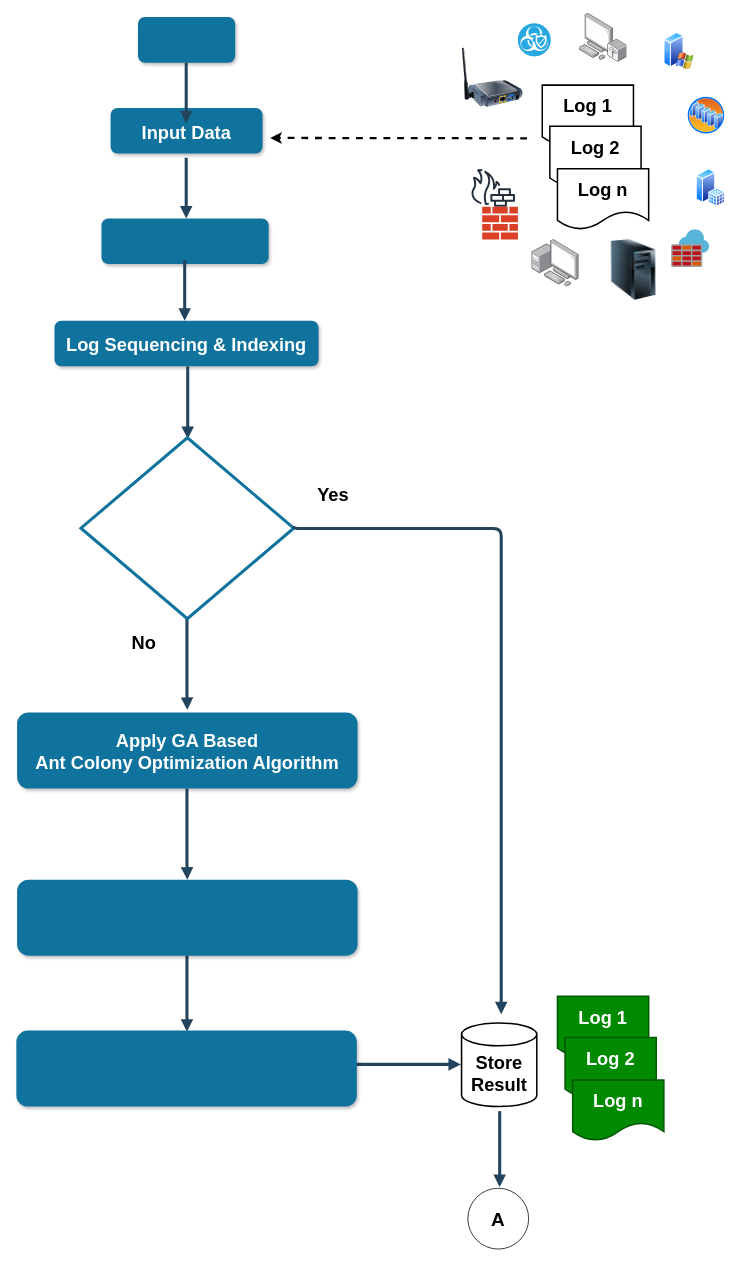
The diagram is 738 pixels wide and 1262 high, and some of its shapes have lost their labels. The shapes that lost their labels are listed below. From the top down, each one's centre as x and y in pixels, then its label:
At [187,41]: "Start".
At [185,242]: "Pre - Processing".
At [187,528]: "log Optimized ?".
At [188,918]: "Apply Set of Rules for Optimization".
At [187,1069]: "Optimized Logs".
